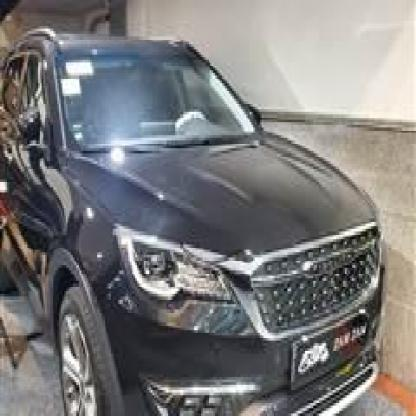Car: (0, 21, 390, 416)
